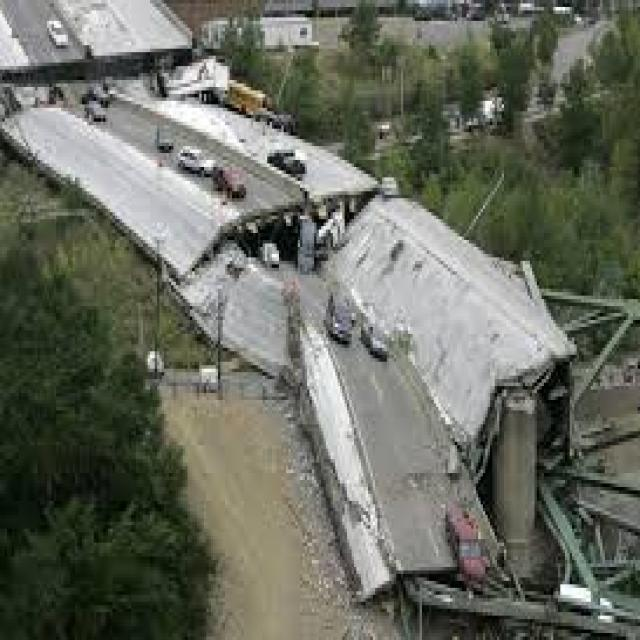bridge collapse: (127, 104, 640, 640)
